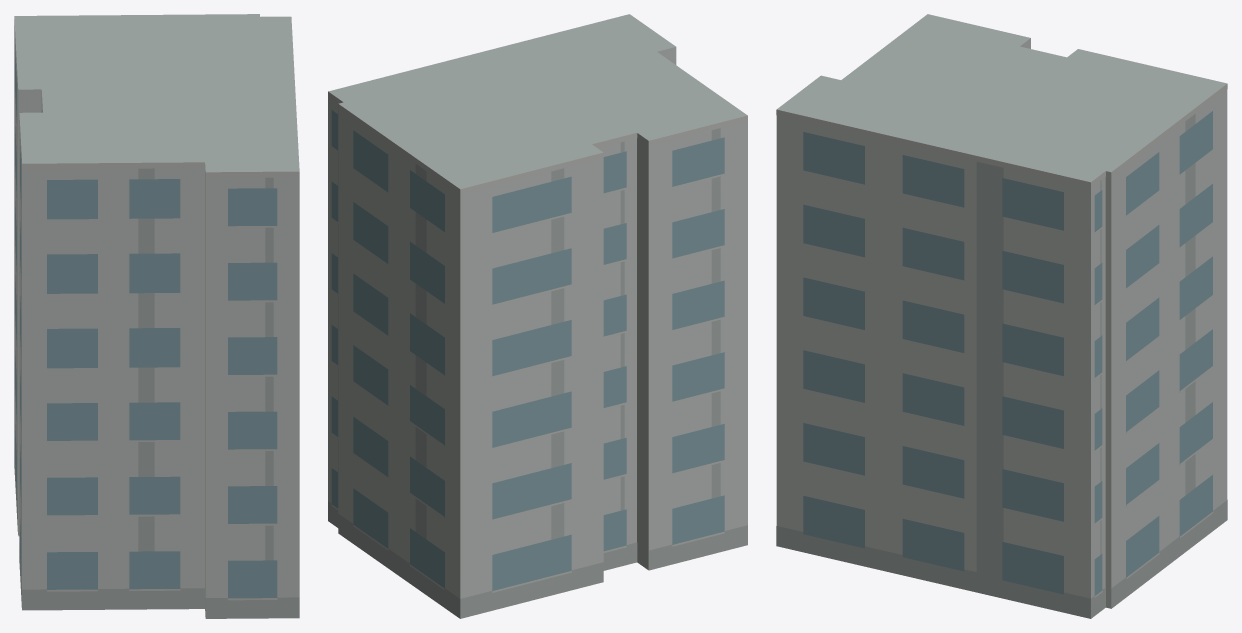
Rendered from survey-upis-33021103.glb.
3 views of the same model, side by side, from view 1: azimuth 30°, elevation 25°; view 2: azimuth 150°, elevation 25°; view 3: azimuth 270°, elevation 25° (orthographic). The views are drawn at different scales.
Visible parts, largest first — view 1: survey-upis-33021103.tmp; view 2: survey-upis-33021103.tmp; view 3: survey-upis-33021103.tmp.
Part boxes in pixels (x1,y1,x2,y2): survey-upis-33021103.tmp: [14, 14, 299, 618]; survey-upis-33021103.tmp: [328, 14, 747, 618]; survey-upis-33021103.tmp: [776, 14, 1227, 618].
Bounding box in the file's own units: 15.59 × 18.85 × 17.66.
